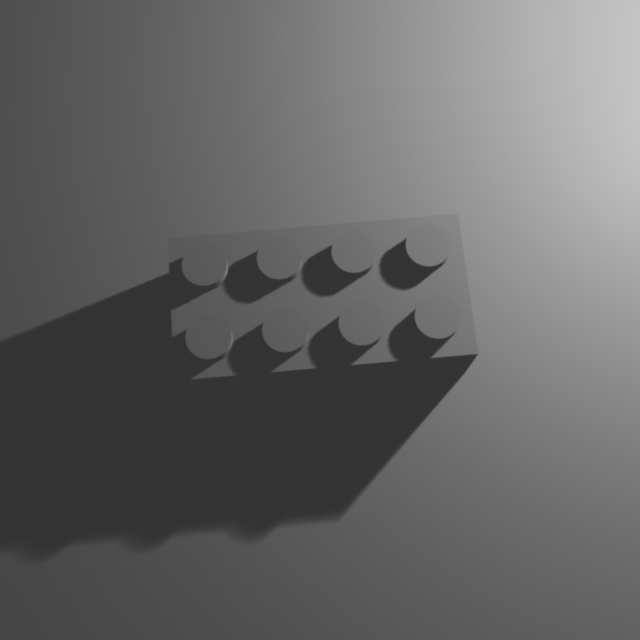lego_2x4: (165, 208, 481, 399)
